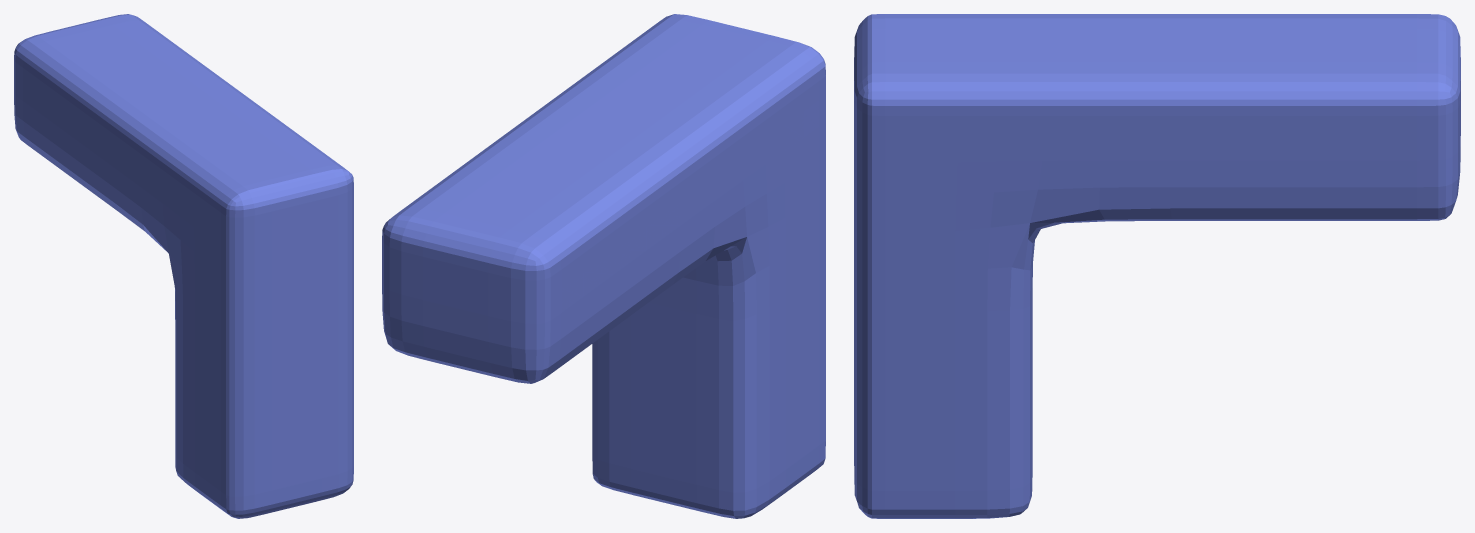
The model's file is Frame.fbx.
3 views of the same model, side by side, from view 1: azimuth 30°, elevation 25°; view 2: azimuth 150°, elevation 25°; view 3: azimuth 270°, elevation 25° (orthographic). The views are drawn at different scales.
Visible parts, largest first — view 1: Frame; view 2: Frame; view 3: Frame.
Part boxes in pixels (x1,y1,x2,y2): Frame: (14, 14, 353, 518); Frame: (382, 14, 825, 518); Frame: (854, 14, 1460, 518).
Size of the model in its own units: 24.96 by 61.15 by 76.11.
